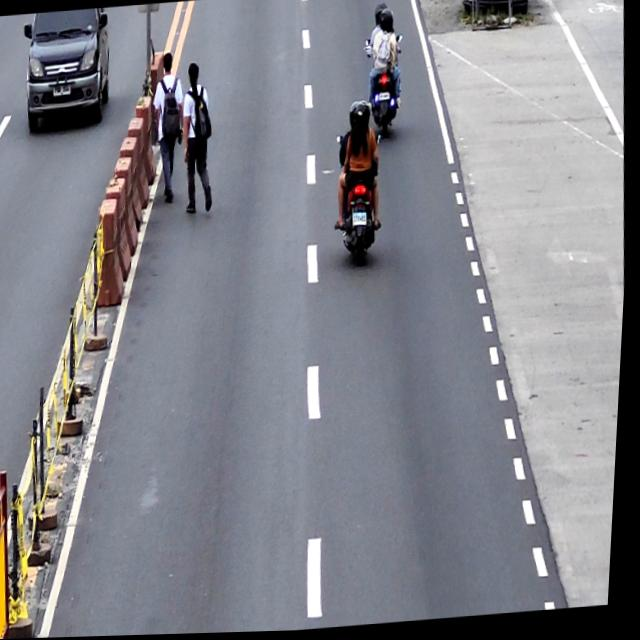License-Plate: (354, 215, 370, 228)
Motorcycle: (333, 104, 388, 274), (363, 4, 404, 135)
